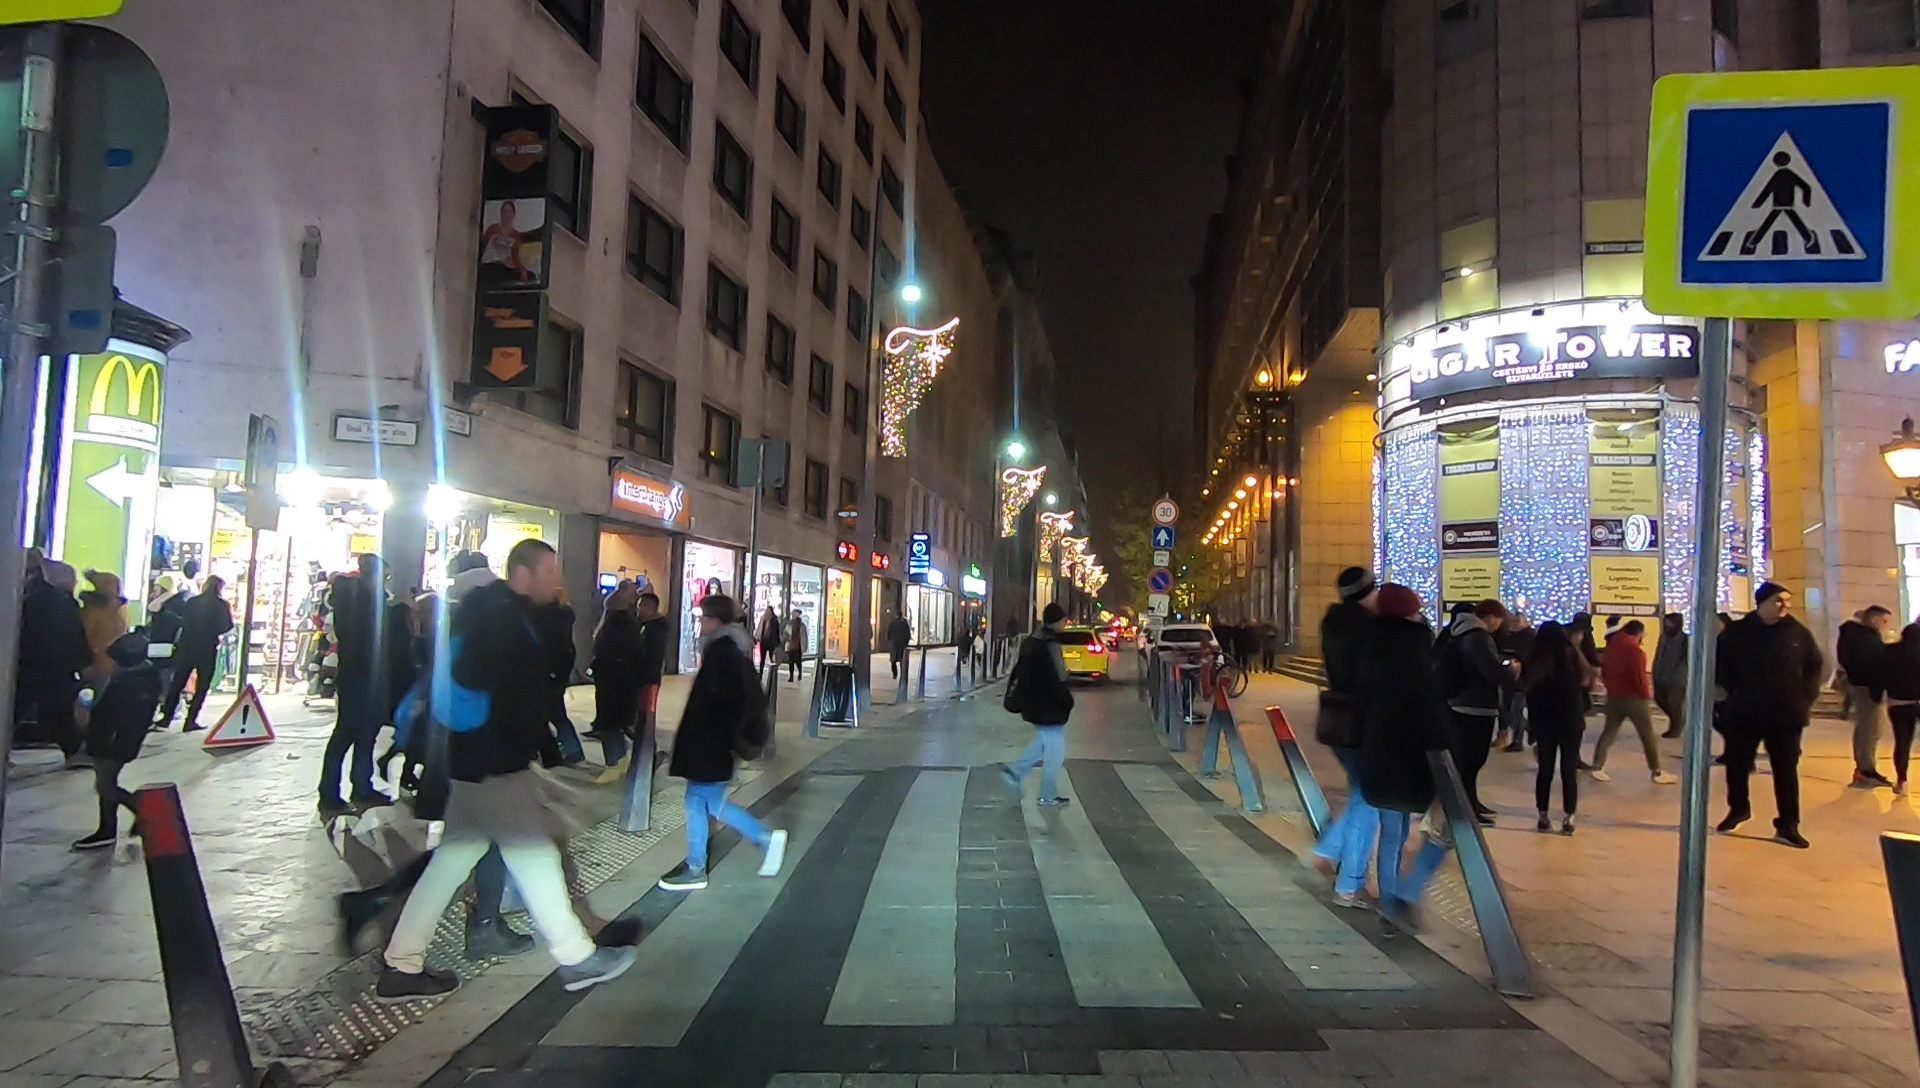person: (388, 537, 630, 1000), (664, 595, 797, 895), (1369, 584, 1454, 923), (1719, 574, 1812, 849), (1325, 571, 1386, 904), (321, 552, 391, 810), (999, 597, 1080, 811), (1432, 600, 1506, 826), (86, 639, 149, 856), (1595, 619, 1669, 793), (1526, 623, 1582, 845), (21, 554, 82, 761), (1832, 599, 1889, 799), (386, 595, 430, 810), (175, 578, 234, 736), (628, 589, 676, 761), (76, 569, 130, 721), (593, 589, 636, 767), (1651, 613, 1688, 741), (786, 608, 812, 684), (888, 611, 914, 680), (758, 602, 780, 673)
